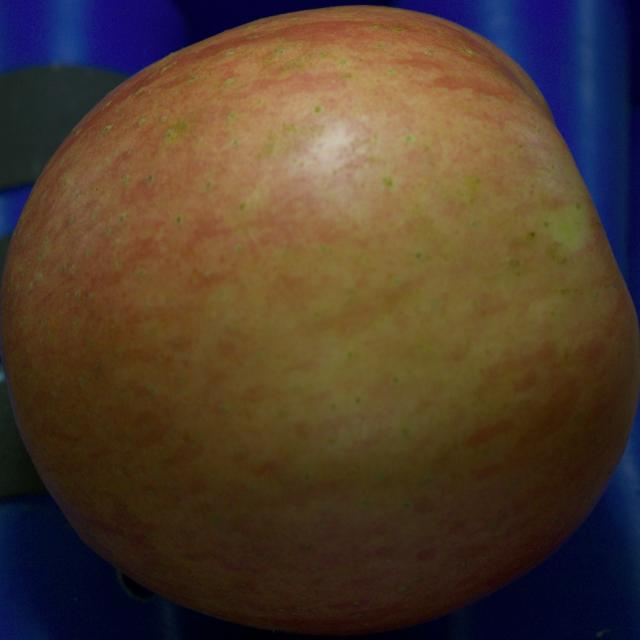apple: (1, 6, 639, 634)
